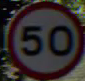Speed limit: (6, 4, 80, 73)
